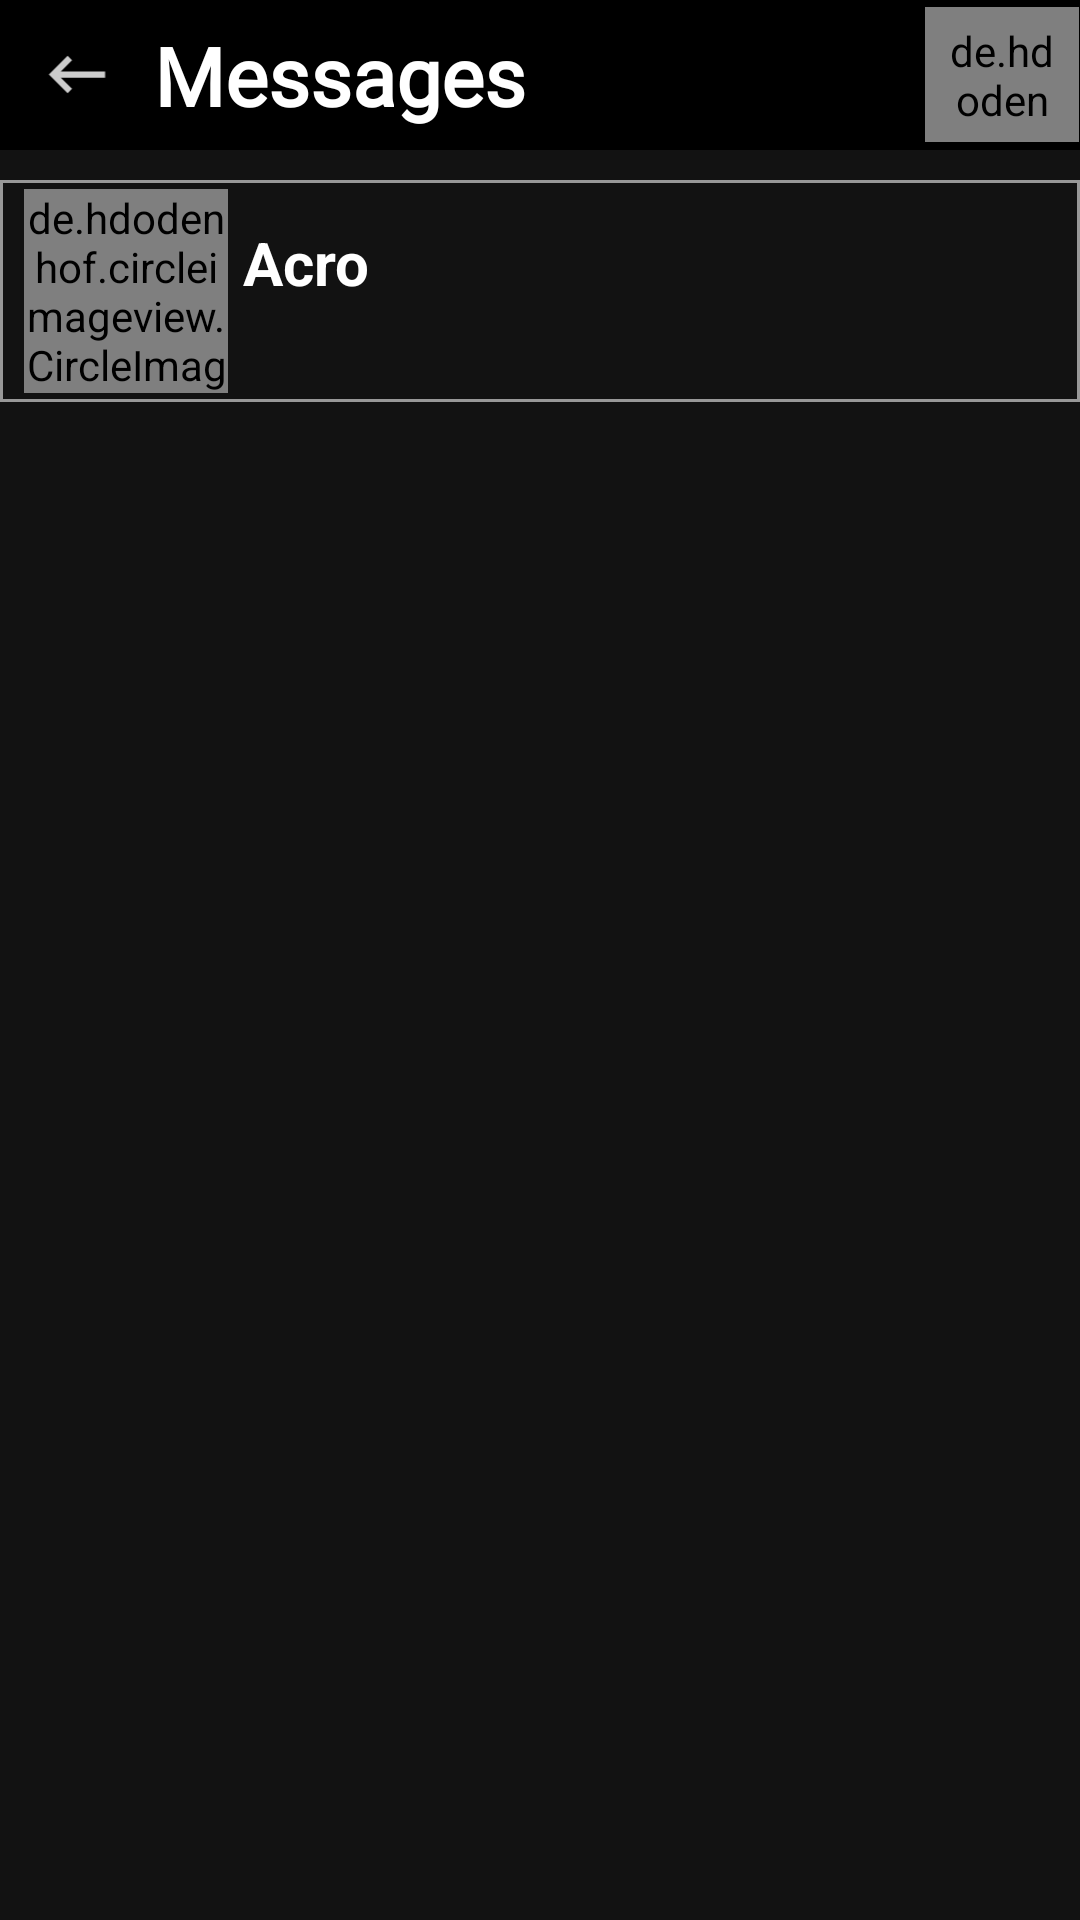

Named icons in this screenshot (1080*1920) and their bounding boxes, [x1=x1, y1=y1, x2=x2, y2=y2]:
back: [x1=48, y1=56, x2=106, y2=93]
